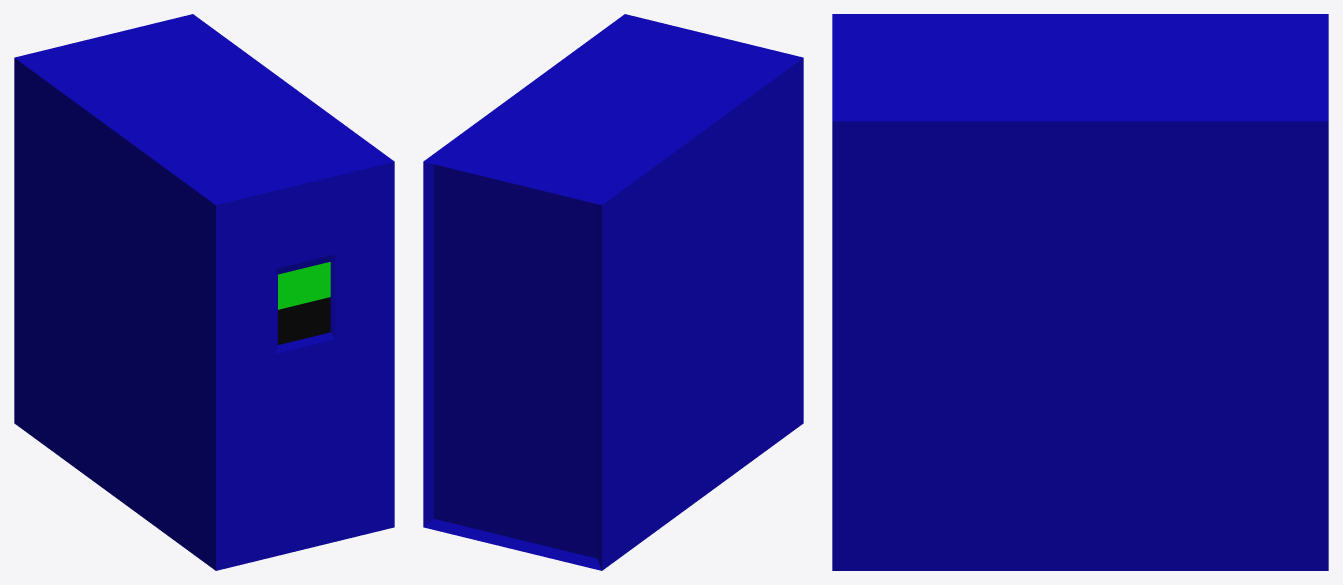
Rendered from blower.gltf.
3 renders of one model, left to right at view 1: azimuth 30°, elevation 25°; view 2: azimuth 150°, elevation 25°; view 3: azimuth 270°, elevation 25°, orthographic. The views are drawn at different scales.
Visible parts, largest first — view 1: schrank; view 2: schrank; view 3: schrank.
Boxes of the visible parts, bbox=[...] form: schrank: bbox=[14, 14, 394, 570]; schrank: bbox=[423, 14, 803, 570]; schrank: bbox=[832, 14, 1328, 570].
Size of the model in its own units: 1.02 by 2 by 2.
